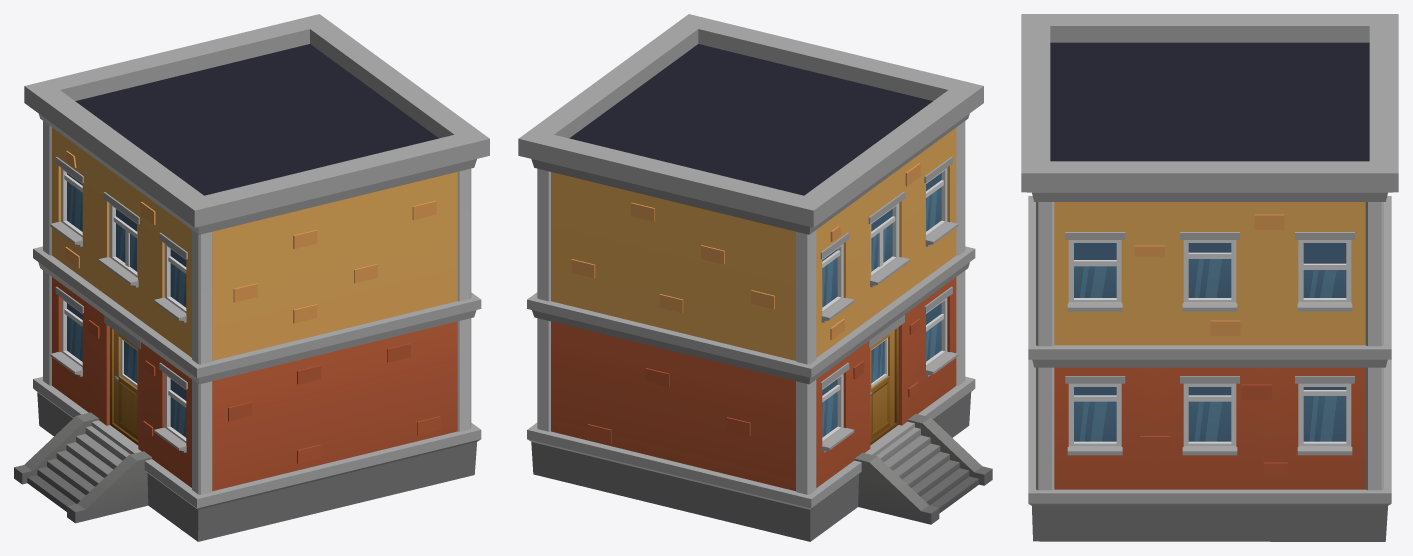
The model's file is Building_2_1_E.fbx.
The picture shows the model from 3 angles, left to right: view 1: azimuth 30°, elevation 25°; view 2: azimuth 150°, elevation 25°; view 3: azimuth 270°, elevation 25°; orthographic projection. The views are drawn at different scales.
Parts seen in each view (by area): view 1: Building_2_1_E; view 2: Building_2_1_E; view 3: Building_2_1_E.
Part boxes in pixels (<box>): Building_2_1_E: <box>14,14,489,541</box>; Building_2_1_E: <box>518,14,992,541</box>; Building_2_1_E: <box>1021,14,1398,541</box>.
Bounding box in the file's own units: 755 × 678 × 620.
